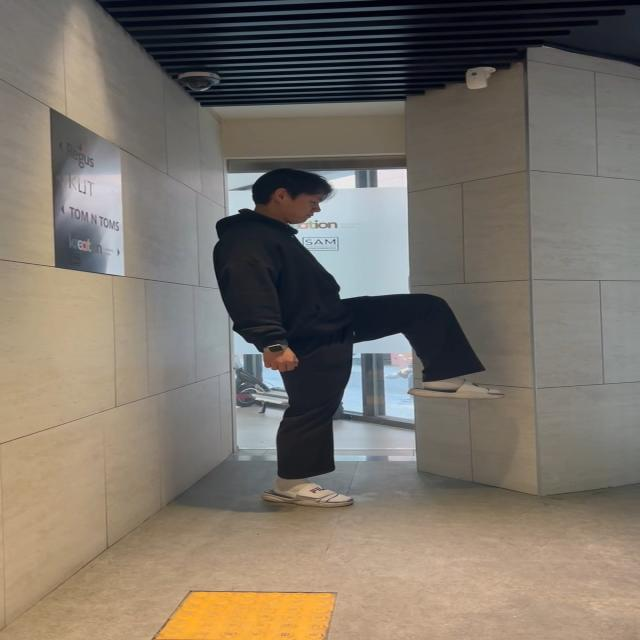knee: (271, 294, 499, 409)
